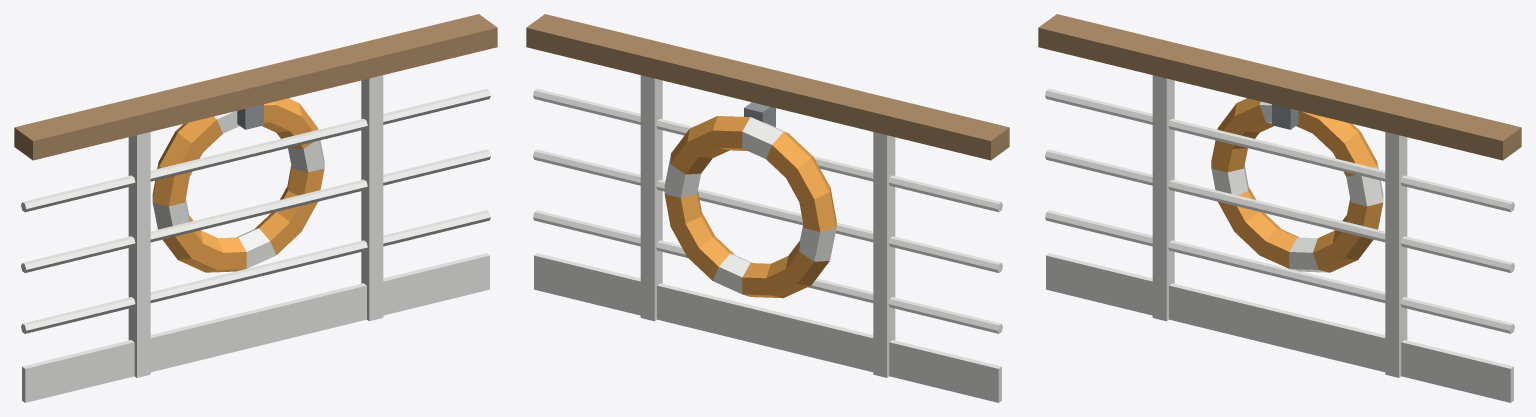
File: CR_Borda_Salvavidas.fbx
3 views of the same model, side by side, from view 1: azimuth 30°, elevation 25°; view 2: azimuth 150°, elevation 25°; view 3: azimuth 330°, elevation 25° (orthographic).
Parts seen in each view (by area): view 1: CR_Borda_Salvavidas; view 2: CR_Borda_Salvavidas; view 3: CR_Borda_Salvavidas.
Boxes of the visible parts, x1,y1,x2,y2 form: CR_Borda_Salvavidas: (14, 14, 497, 402); CR_Borda_Salvavidas: (526, 14, 1009, 402); CR_Borda_Salvavidas: (1038, 14, 1521, 402).
Size of the model in its own units: 2 by 1.1 by 0.2606.
